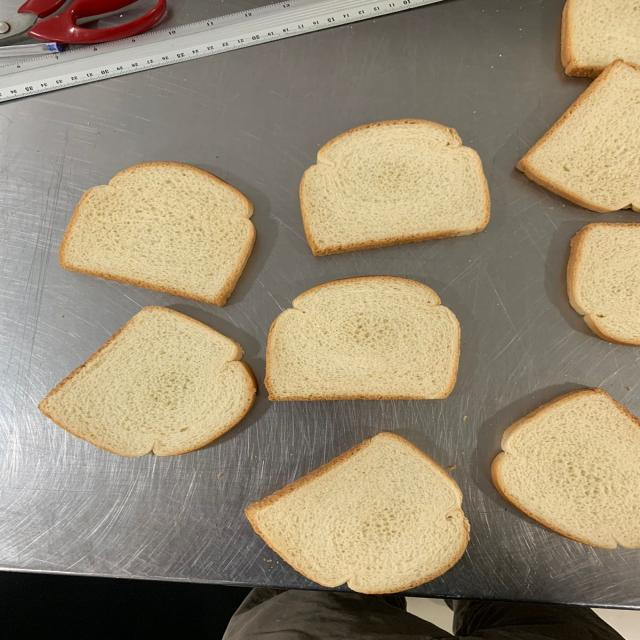pan: (246, 432, 471, 594), (39, 305, 259, 458), (59, 162, 257, 308), (299, 119, 492, 257), (265, 275, 462, 400)
